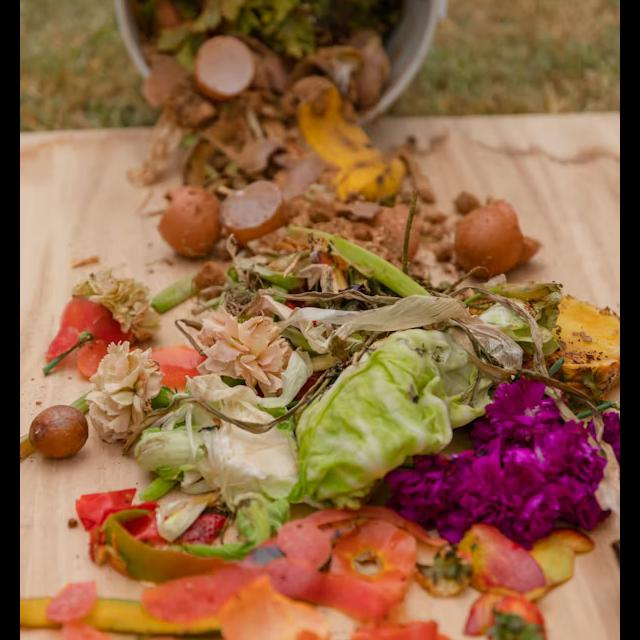food_waste: (315, 294, 545, 483), (398, 389, 617, 543), (20, 575, 316, 640), (158, 390, 307, 519), (270, 270, 469, 353), (292, 74, 400, 226), (158, 300, 311, 404), (60, 484, 249, 559), (53, 264, 164, 379), (160, 87, 288, 173), (133, 180, 244, 254), (555, 270, 620, 396), (448, 184, 548, 264), (210, 154, 301, 236), (522, 517, 600, 608), (188, 17, 267, 100), (43, 583, 153, 640), (476, 568, 546, 640), (115, 597, 228, 640), (28, 397, 103, 449)
